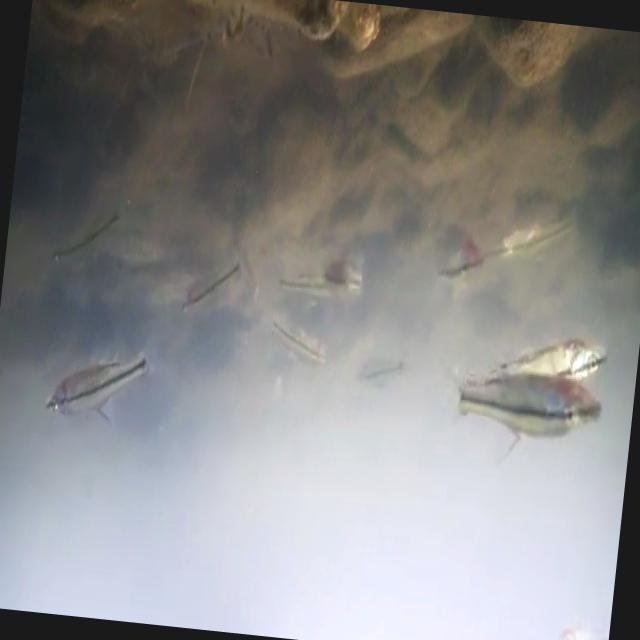Cakil Baligi: (436, 367, 614, 478), (40, 328, 162, 434)
